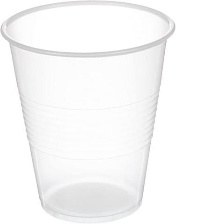glass: (0, 0, 180, 224)
